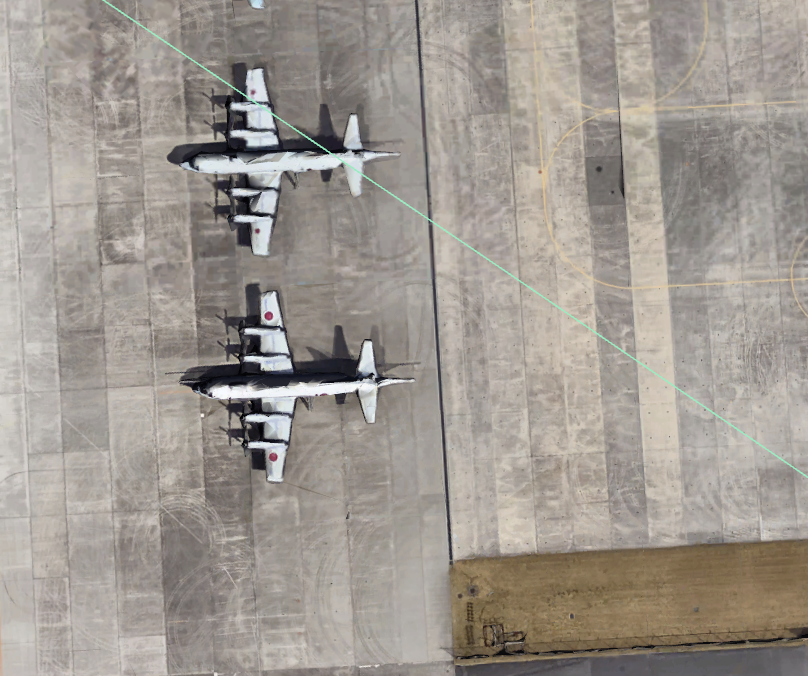A9: (169, 51, 408, 267), (185, 283, 421, 483)
